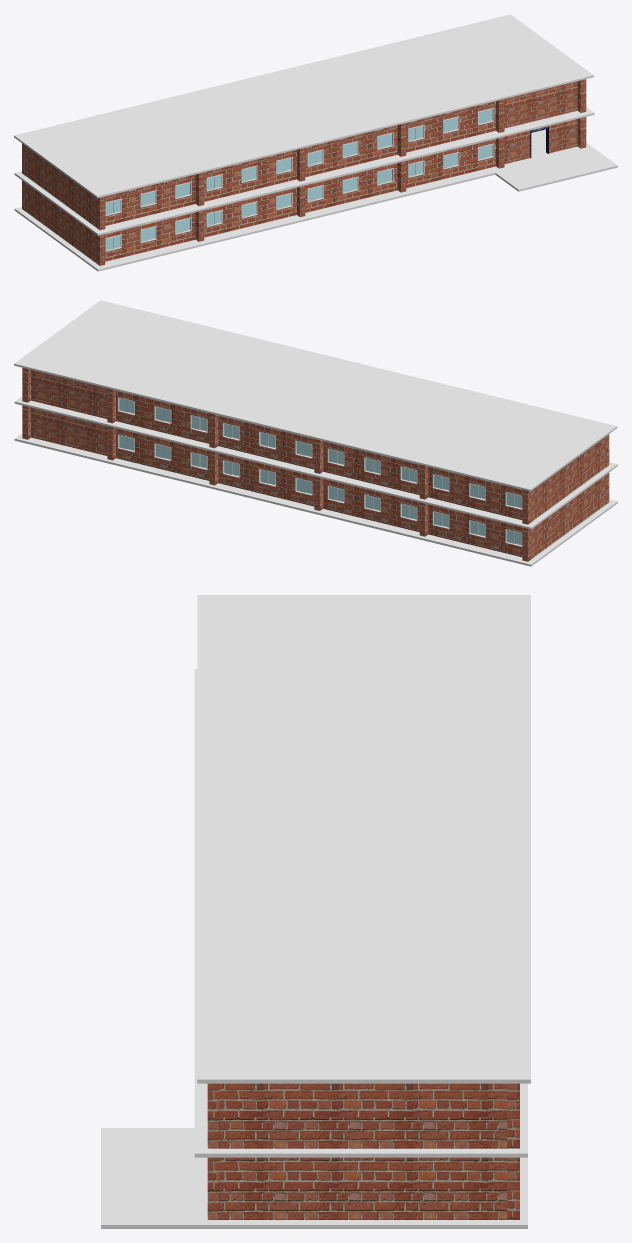
Rendered from school4.glb.
The picture shows the model from 3 angles, top to bottom: view 1: azimuth 30°, elevation 25°; view 2: azimuth 150°, elevation 25°; view 3: azimuth 270°, elevation 25°; orthographic projection. The views are drawn at different scales.
Parts seen in each view (by area): view 1: Floor3, polySurface13653, Wall_8, Floor1, polySurface13732, Wall_5, Piller_2, polySurface13654; view 2: Floor3, polySurface13653, Wall_6, Floor1, polySurface13699, Wall_10, Wall_5, Piller_1; view 3: Floor3, polySurface13653, Wall_9, Floor1.
Part boxes in pixels (bbox=[...]): Floor3: bbox=[14, 14, 593, 198]; polySurface13653: bbox=[14, 79, 594, 235]; Wall_8: bbox=[105, 139, 495, 261]; Floor1: bbox=[14, 129, 617, 271]; polySurface13732: bbox=[105, 143, 494, 251]; Wall_5: bbox=[25, 182, 96, 263]; Piller_2: bbox=[97, 117, 586, 265]; polySurface13654: bbox=[504, 119, 577, 163]; Floor3: bbox=[14, 300, 617, 491]; polySurface13653: bbox=[14, 368, 617, 529]; Wall_6: bbox=[116, 428, 522, 557]; Floor1: bbox=[14, 433, 617, 566]; polySurface13699: bbox=[118, 434, 522, 546]; Wall_10: bbox=[31, 407, 107, 455]; Wall_5: bbox=[531, 475, 605, 558]; Piller_1: bbox=[22, 405, 531, 561]; Floor3: bbox=[197, 595, 530, 1083]; polySurface13653: bbox=[194, 669, 527, 1157]; Wall_9: bbox=[220, 1157, 507, 1219]; Floor1: bbox=[101, 1128, 527, 1228].
Bounding box in the file's own units: 45.97 × 6.59 × 17.23.
23 materials, 2 textured.
